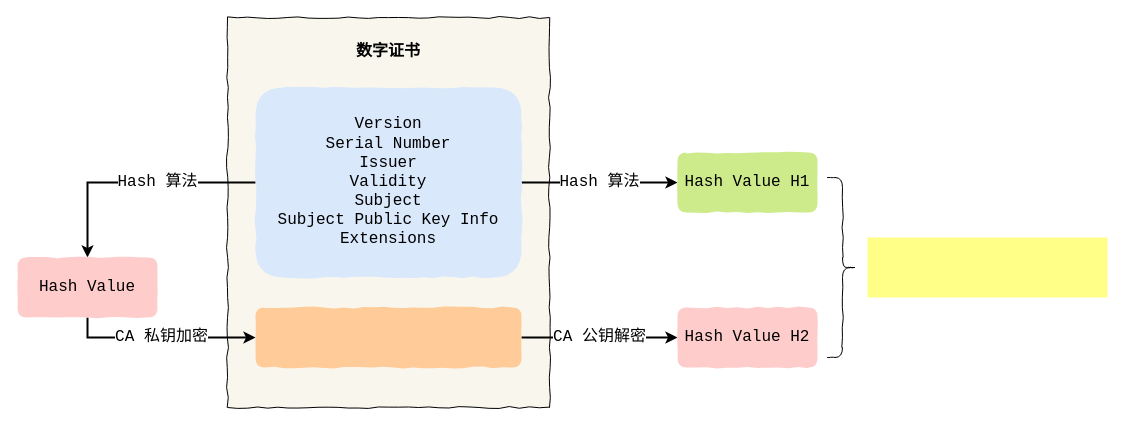
Image size: 1124x425. Some labels were removed from this diagram. The box of each missing label's shape, as (x1, y1, x2, y2) in pixels:
Certificate Signature: (255, 307, 521, 367)
H1 和 H2 比较， 如果相同，则是可信赖的证书 如果不相同，则认为证书不可信: (867, 237, 1107, 297)
